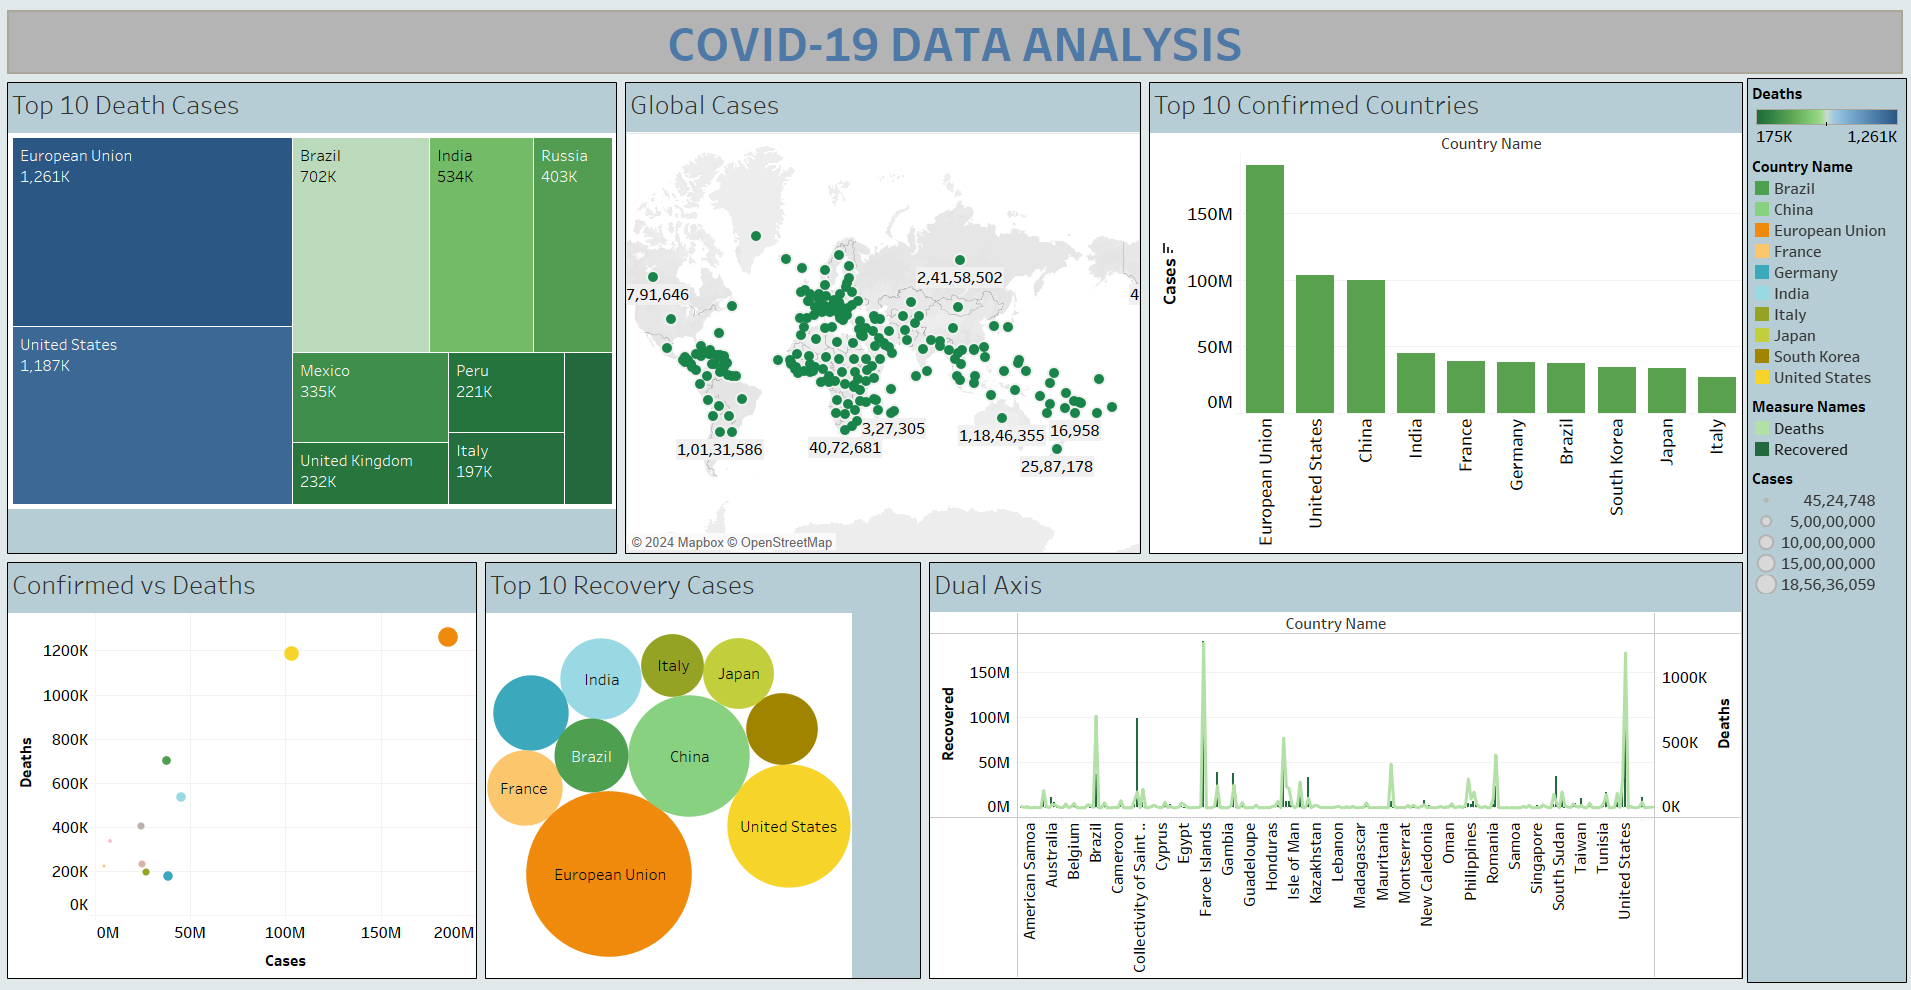

This screenshot's page, from the dashboard's own definition file:
{"tool":"tableau","page":{"name":"Dashboard 1","canvas":[1000,1000],"units":"permille","ordinal":0},"visuals":[{"type":"title","box":[4.8,10,990.3,89.9]},{"type":"worksheet","title":"Top 10 Death Cases","mark":"Automatic","box":[4.8,99.9,316.8,471.7]},{"type":"worksheet","title":"Global Cases","mark":"Automatic","box":[321.7,99.9,268.5,471.7]},{"type":"worksheet","title":"Top 10 Confirmed Countries","mark":"Automatic","rows":["Cases"],"cols":["Country Name"],"box":[590.2,99.9,308.4,471.7]},{"type":"legend","title":"Top 10 Death Cases","param":"[federated.18d0vcp0nl62ob15hsu0c1bu6v71].[sum:Deaths:qk]","box":[899.2,101.1,95.4,91.1]},{"type":"legend","title":"Top 10 Recovery Cases","param":"[federated.18d0vcp0nl62ob15hsu0c1bu6v71].[none:Country Name:nk]","box":[899.2,192.3,95.4,299.6]},{"type":"legend","title":"Dual Axis","param":"[federated.18d0vcp0nl62ob15hsu0c1bu6v71].[:Measure Names]","box":[899.2,491.9,95.4,89.9]},{"type":"worksheet","title":"Confirmed vs Deaths","mark":"Automatic","rows":["Deaths"],"cols":["Cases"],"box":[4.8,571.6,245,418.5]},{"type":"worksheet","title":"Top 10 Recovery Cases","mark":"Circle","box":[249.8,571.6,227.5,418.5]},{"type":"worksheet","title":"Dual Axis","mark":"Automatic","rows":["Recovered","Deaths"],"cols":["Country Name"],"box":[477.4,571.6,421.2,418.5]},{"type":"legend","title":"Confirmed vs Deaths","param":"[federated.18d0vcp0nl62ob15hsu0c1bu6v71].[sum:Cases:qk]","box":[899.2,581.8,95.4,168.5]}]}

Visuals, with their boxes on the dashboard's canvas, which has no fixed pixel size, in thousandths of its width and height (x1, y1, x2, y2). These are canvas units, not pixel positions in the 1911x990 screenshot, which may show the page scaled, cropped or inside an application window:
title: bbox(5, 10, 995, 100)
"Top 10 Death Cases" worksheet: bbox(5, 100, 322, 572)
"Global Cases" worksheet: bbox(322, 100, 590, 572)
"Top 10 Confirmed Countries" worksheet: bbox(590, 100, 899, 572)
"Top 10 Death Cases" legend: bbox(899, 101, 995, 192)
"Top 10 Recovery Cases" legend: bbox(899, 192, 995, 492)
"Dual Axis" legend: bbox(899, 492, 995, 582)
"Confirmed vs Deaths" worksheet: bbox(5, 572, 250, 990)
"Top 10 Recovery Cases" worksheet (Circle marks): bbox(250, 572, 477, 990)
"Dual Axis" worksheet: bbox(477, 572, 899, 990)
"Confirmed vs Deaths" legend: bbox(899, 582, 995, 750)
